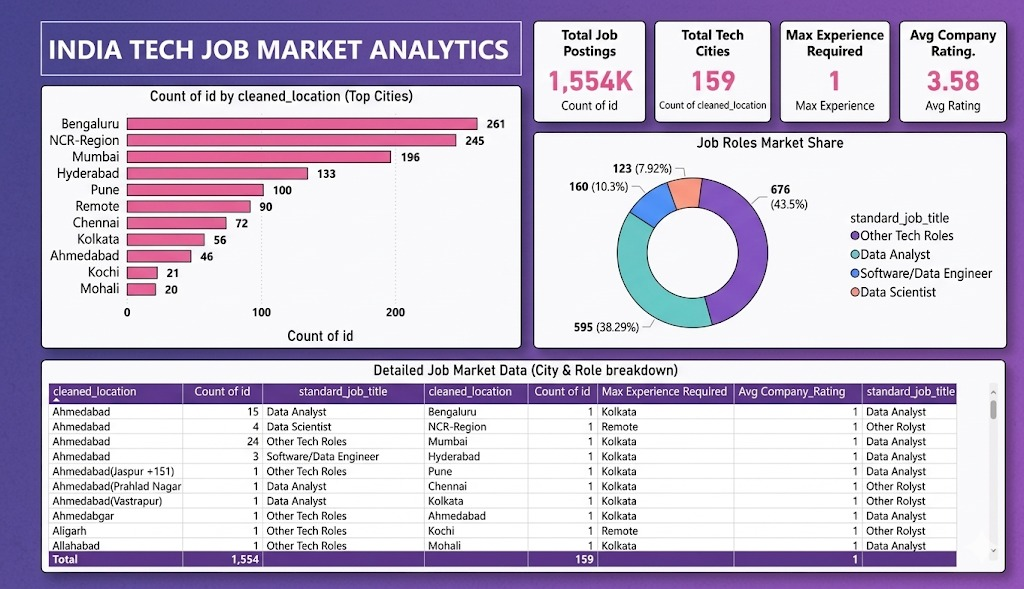

The page's visual inventory and layout, read from the dashboard file:
{"tool":"powerbi","page":{"name":"Page 1","canvas":[1280,720],"ordinal":0},"visuals":[{"type":"tableEx","fields":{"Values":["india_job_market_db cleaned_job_listings.cleaned_location","CountNonNull(india_job_market_db cleaned_job_listings.id)","india_job_market_db cleaned_job_listings.standard_job_title","select","india_job_market_db cleaned_job_listings.company","Max(india_job_market_db cleaned_job_listings.min_experience)","Avg(india_job_market_db cleaned_job_listings.rating)"]},"box":[0,467.9,1276.5,251.9],"z":0},{"type":"barChart","title":"Top Cities for Tech Jobs","fields":{"Category":["india_job_market_db cleaned_job_listings.cleaned_location"],"Y":["CountNonNull(india_job_market_db cleaned_job_listings.id)"]},"box":[11.3,77.5,635.2,376.1],"z":1000},{"type":"donutChart","title":"Job Roles Market Share","fields":{"Category":["india_job_market_db cleaned_job_listings.standard_job_title"],"Y":["CountNonNull(india_job_market_db cleaned_job_listings.id)"]},"box":[657.7,187.3,618.3,266.2],"z":2000},{"type":"cardVisual","fields":{"Data":["Count(india_job_market_db cleaned_job_listings.id)","Count(india_job_market_db cleaned_job_listings.cleaned_location)","Max(india_job_market_db cleaned_job_listings.min_experience)","Avg(india_job_market_db cleaned_job_listings.rating)"]},"box":[657.7,9.9,618.3,167.6],"z":3000},{"type":"textbox","box":[11.2,9.2,635.7,55.1],"z":3001}]}

Visuals, with their boxes in screenshot pixels (x1, y1, x2, y2), scaled from the page's 1280x720 canvas onto the 1024x589 screenshot:
tableEx - india_job_market_db cleaned_job_listings.cleaned_location x CountNonNull(india_job_market_db cleaned_job_listings.id): 0 383 1021 588
"Top Cities for Tech Jobs" barChart: 9 63 517 371
"Job Roles Market Share" donutChart: 526 153 1021 371
cardVisual - Count(india_job_market_db cleaned_job_listings.id) x Count(india_job_market_db cleaned_job_listings.cleaned_location): 526 8 1021 145
textbox: 9 8 518 53
